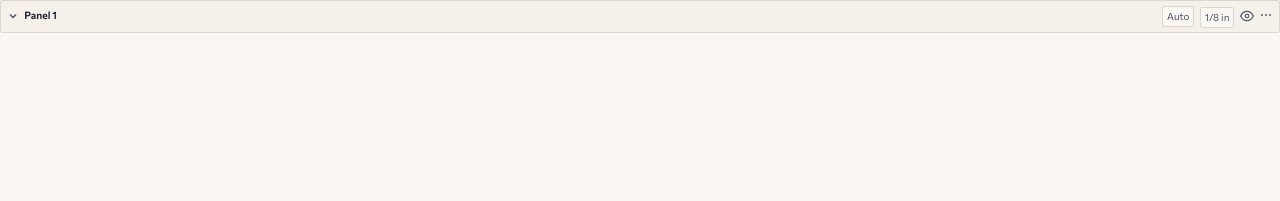
Test case: PanelHeader (P5 — ⋯ options menu, trash removed) › opens a menu of exactly Rename · Duplicate · Substrate details… · Clear all layers · Delete (no Download; Delete danger-styled)
What coordinates should you click on to do the following:
click the button named "Panel options"
I would click on:
 (1266, 14)
Its box is x1=1259 y1=8 x2=1273 y2=22.
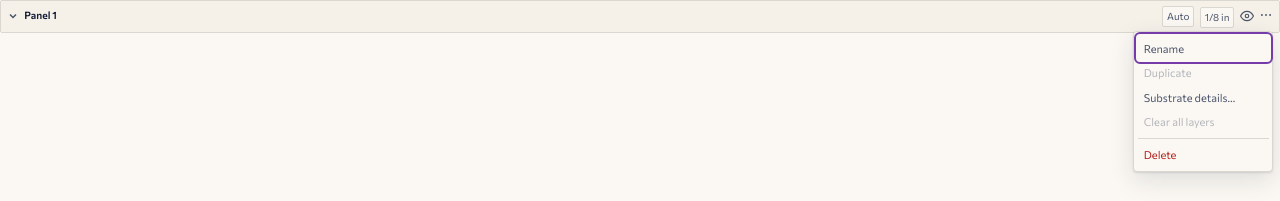
Check: the menu items read "Rename", "Duplicate", "Substrate details…", "Clear all layers", "Delete", in this order, box x1=1144 y1=42 x2=1184 y2=55; x1=1144 y1=66 x2=1192 y2=79; x1=1144 y1=91 x2=1235 y2=104; x1=1144 y1=115 x2=1215 y2=128; x1=1144 y1=148 x2=1176 y2=161
